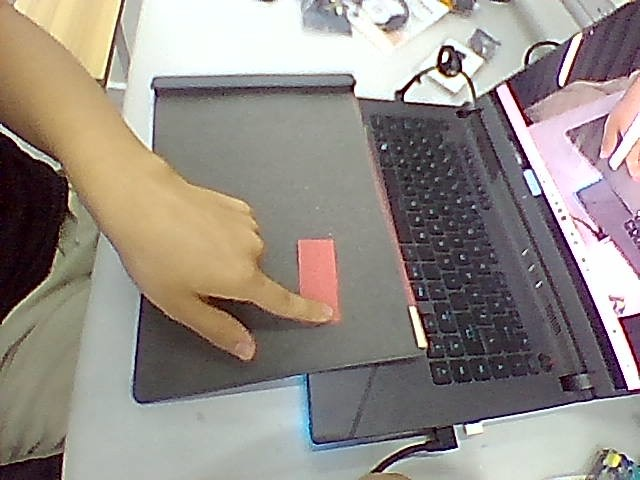card: (298, 238, 338, 321)
